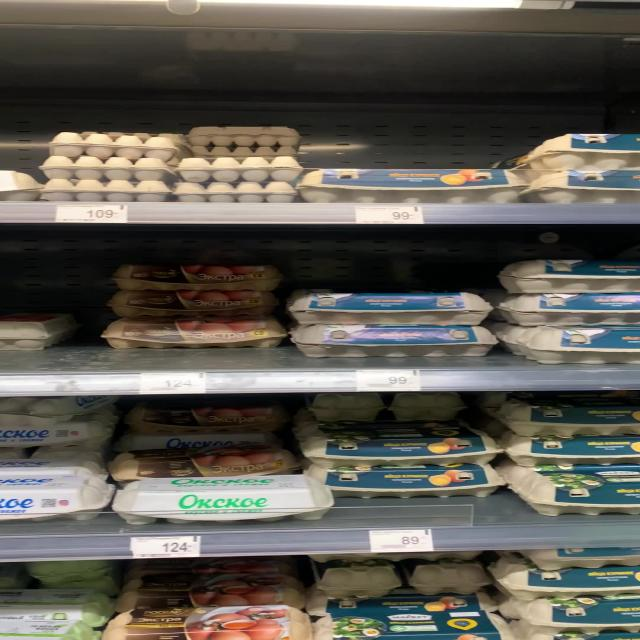egg box: (296, 455, 522, 511), (102, 475, 335, 524), (296, 160, 522, 201), (281, 284, 503, 324), (303, 422, 501, 464), (284, 318, 488, 357), (110, 602, 314, 638), (98, 314, 286, 348), (111, 444, 288, 480), (100, 290, 285, 318), (109, 262, 276, 289), (321, 615, 508, 637)
